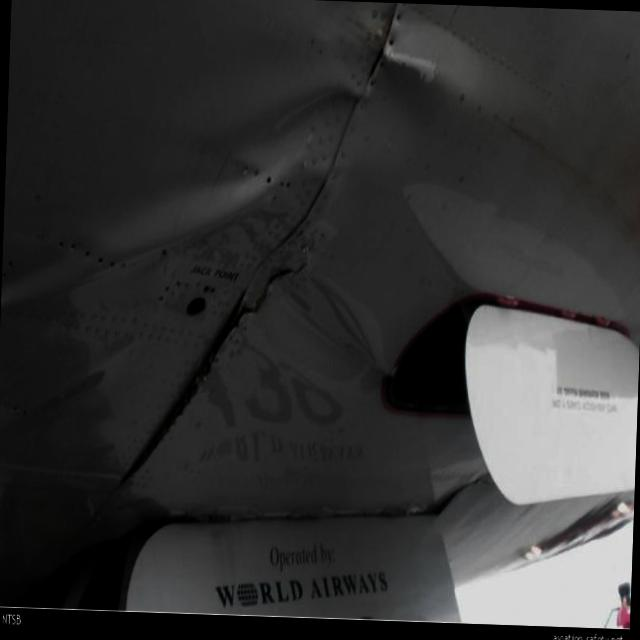crack: (228, 256, 308, 338)
dent: (1, 75, 359, 319), (368, 57, 436, 166)
